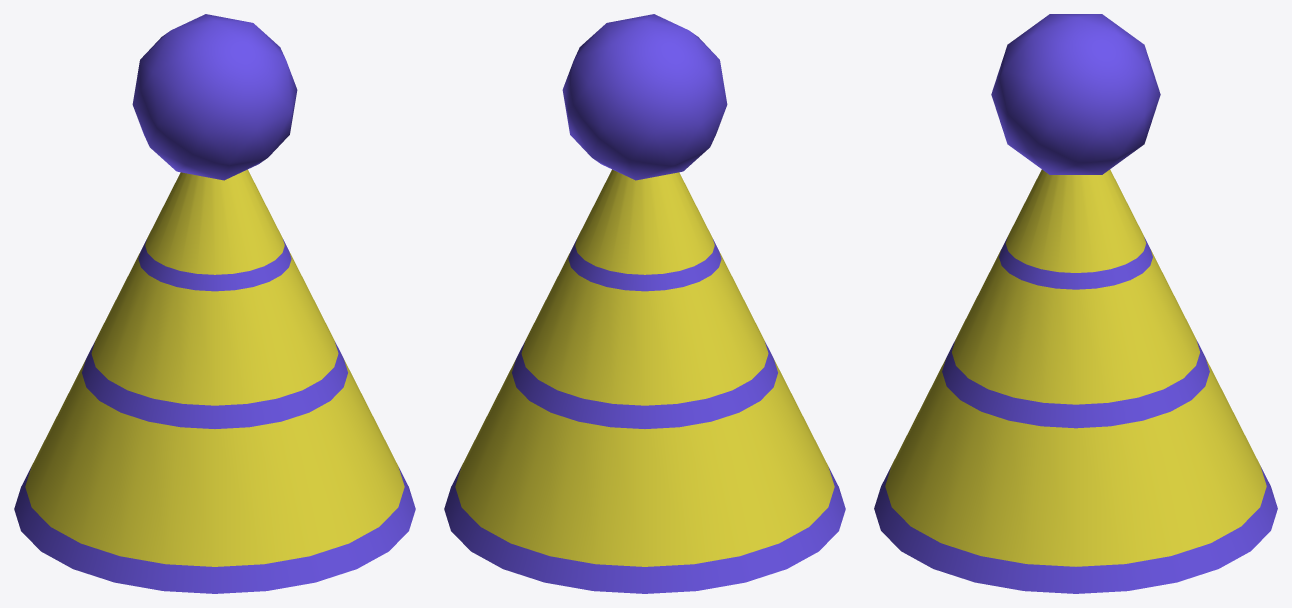
The model's file is partyHat.fbx.
The picture shows the model from 3 angles, left to right: view 1: azimuth 30°, elevation 25°; view 2: azimuth 150°, elevation 25°; view 3: azimuth 270°, elevation 25°; orthographic projection.
Parts seen in each view (by area): view 1: Party Hat; view 2: Party Hat; view 3: Party Hat.
Boxes of the visible parts, left/top/right/bottom form: Party Hat: left=14, top=14, right=415, bottom=593; Party Hat: left=444, top=14, right=845, bottom=593; Party Hat: left=874, top=14, right=1277, bottom=593.
Bounding box in the file's own units: 17.43 × 17.43 × 23.38.
